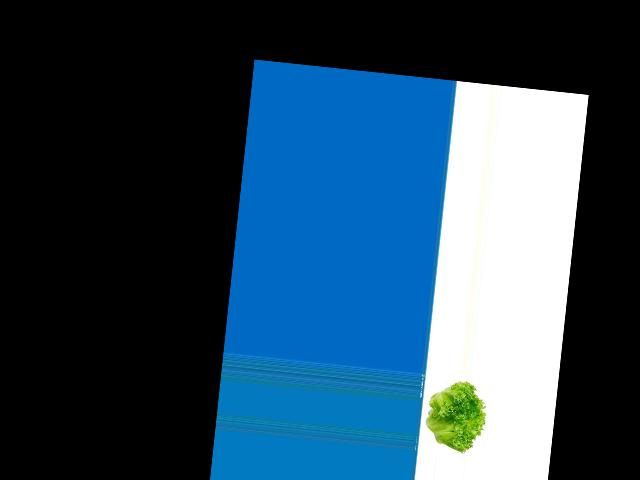lettuce: (419, 377, 491, 453)
